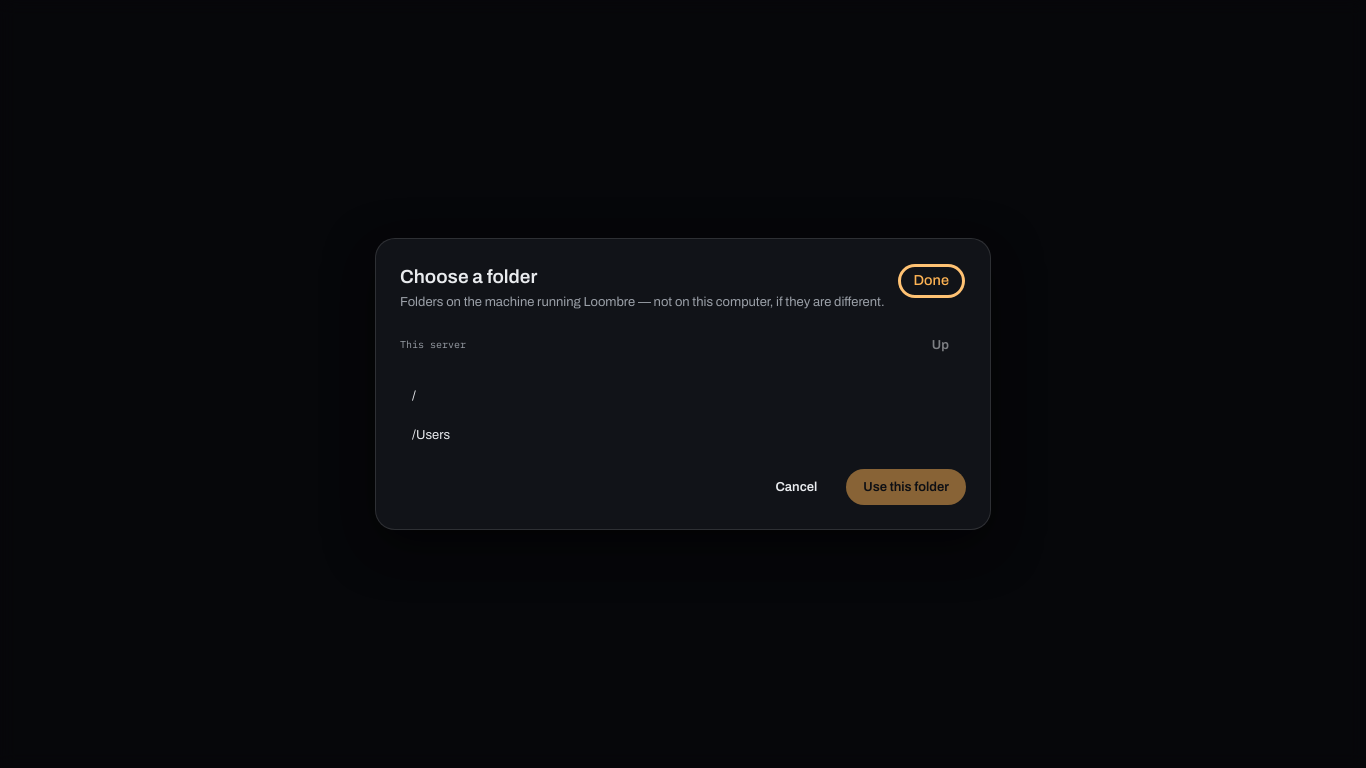
Test case: DirectoryPicker › marks unreadable entries instead of hiding them
Click the button "/Users".
click(431, 435)  # box [400,418,966,453]
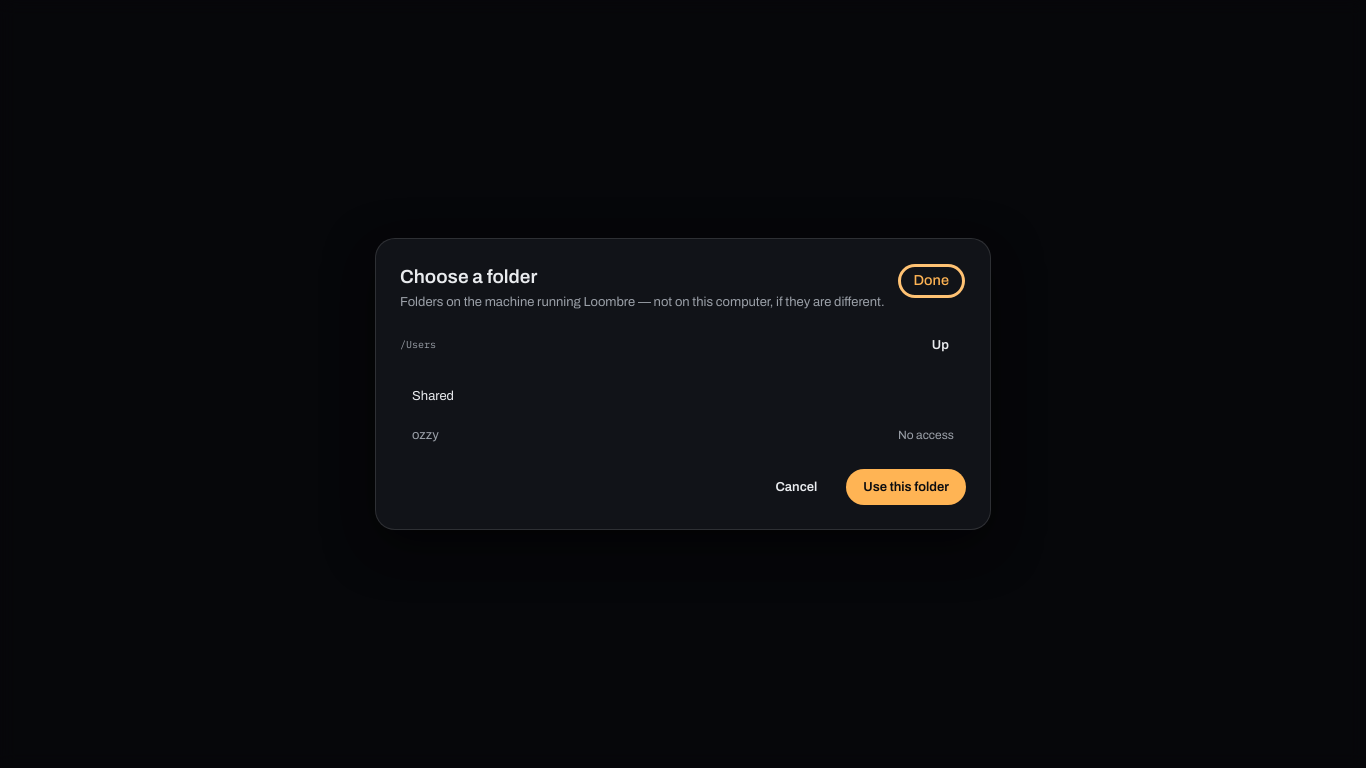
Expected: the button does not show "No access"
Result: the button "ozzy No access" is shown at [400,418,966,453]
